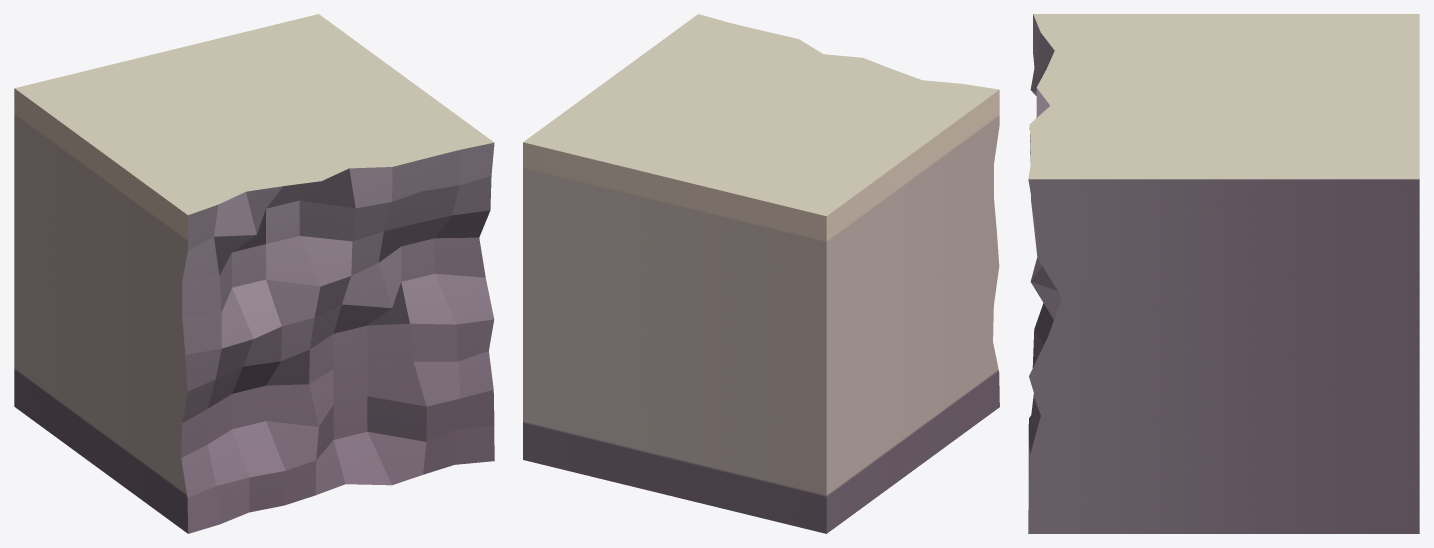
Rendered from middleTerrainTile4.fbx.
3 renders of one model, left to right at view 1: azimuth 30°, elevation 25°; view 2: azimuth 150°, elevation 25°; view 3: azimuth 270°, elevation 25°, orthographic. The views are drawn at different scales.
Visible parts, largest first — view 1: base2.001; view 2: base2.001; view 3: base2.001.
Boxes of the visible parts, x1,y1,x2,y2 form: base2.001: [14, 14, 494, 533]; base2.001: [523, 14, 999, 533]; base2.001: [1028, 14, 1419, 533].
Size of the model in its own units: 200 by 200 by 200.
